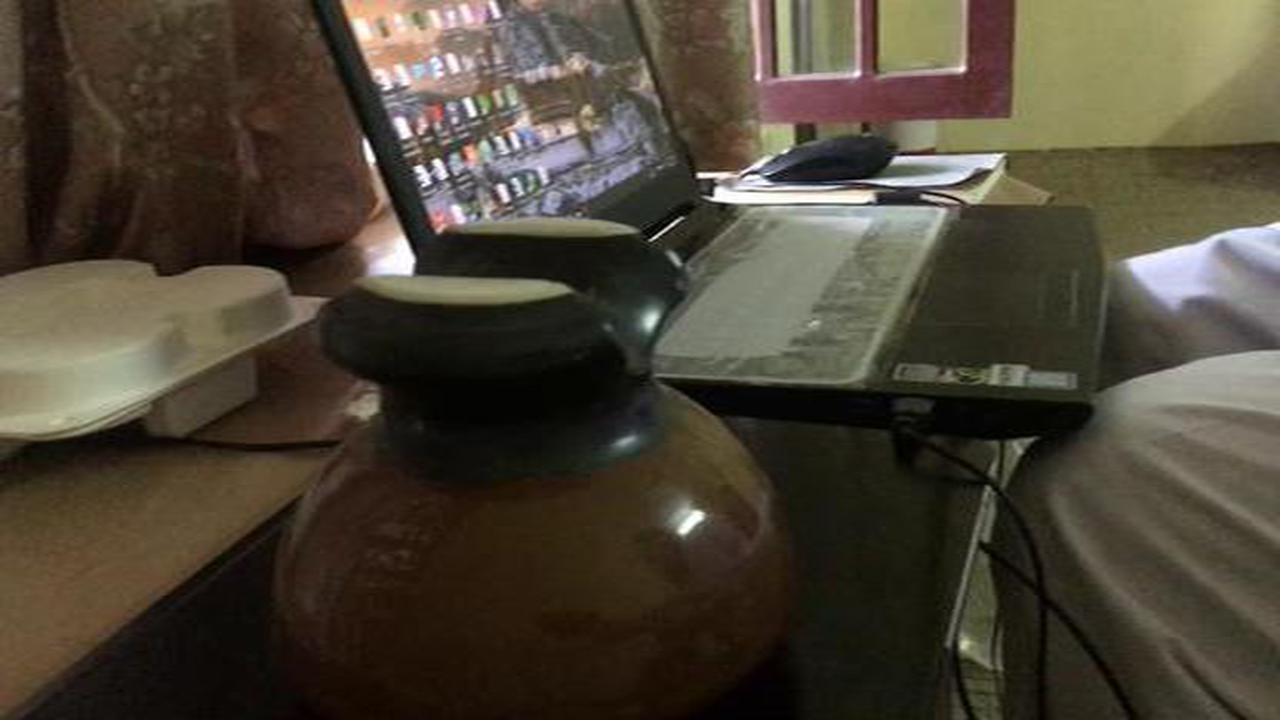insulator_pin: (244, 206, 825, 715)
